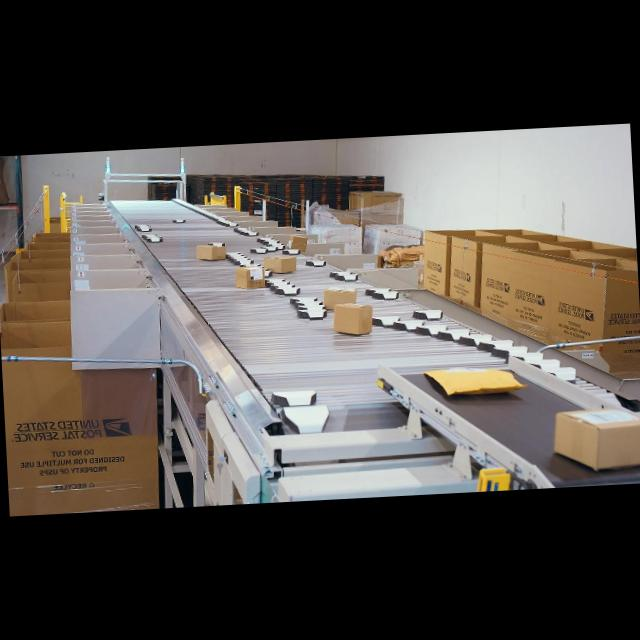box: (554, 410, 640, 471), (334, 304, 372, 335), (324, 287, 357, 310), (236, 266, 264, 289), (264, 256, 297, 273), (197, 245, 226, 260)
mailer: (424, 368, 527, 395)
